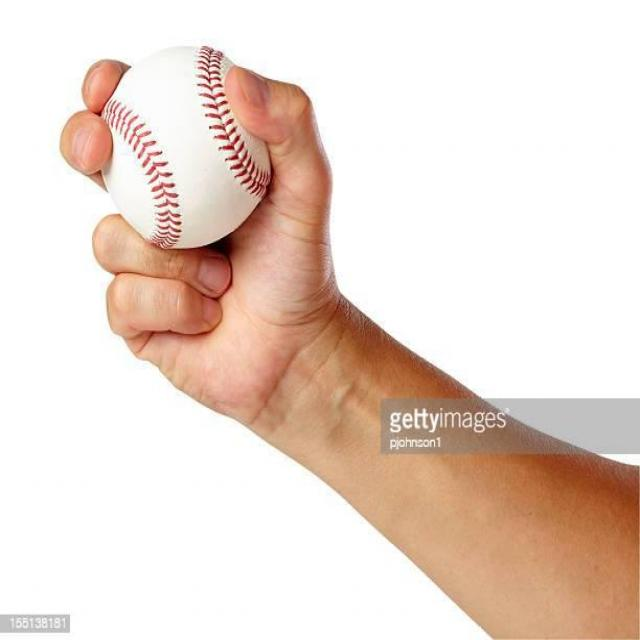baseball: (101, 41, 269, 249)
